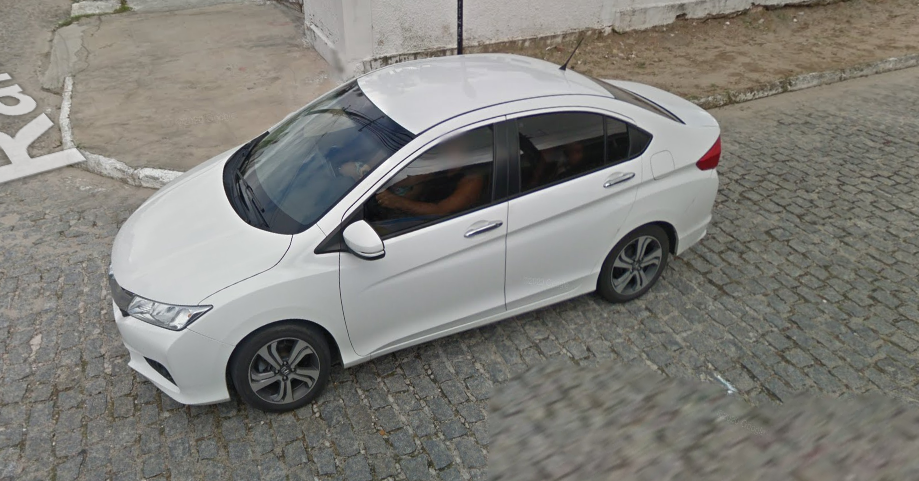car: (103, 30, 722, 417)
